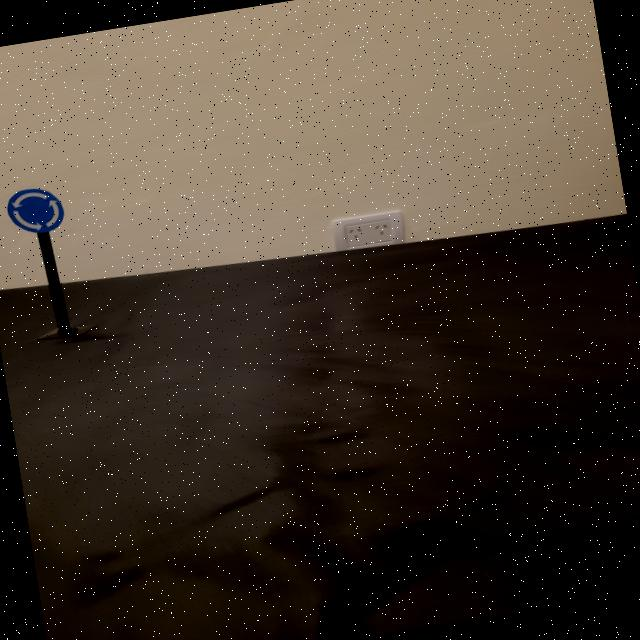round_about: (3, 184, 68, 239)
